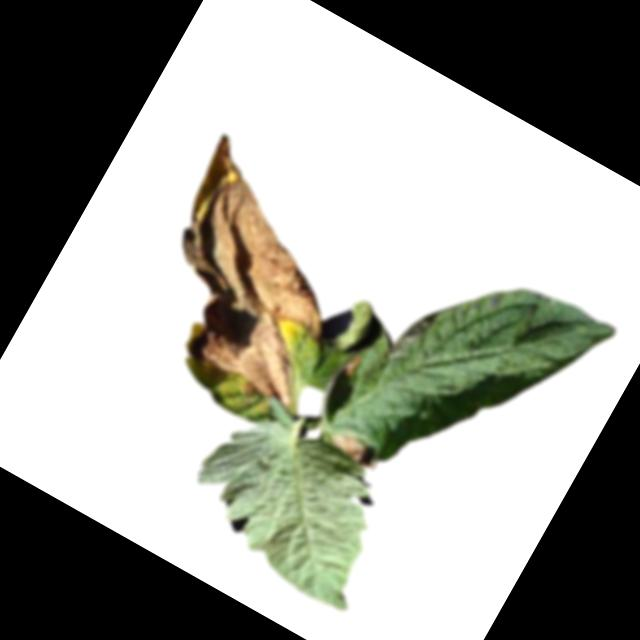Late_blight: (115, 131, 398, 421), (384, 297, 442, 371), (324, 423, 386, 475), (337, 348, 369, 382)
